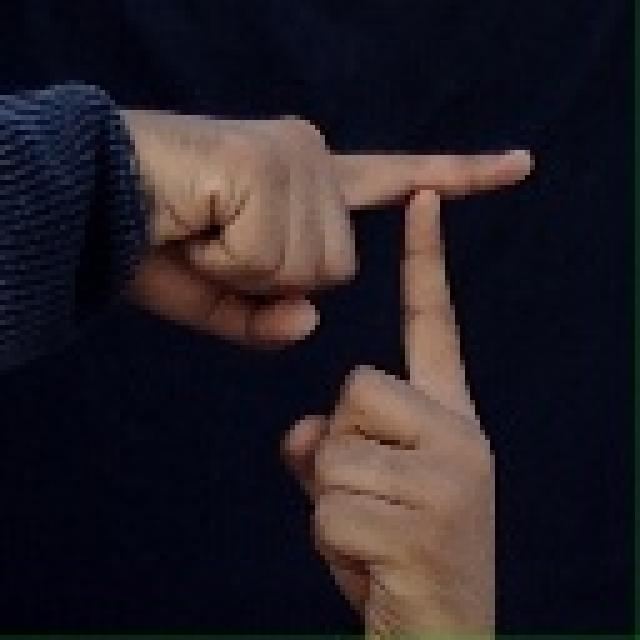Alphabet-T: (115, 51, 538, 634)
